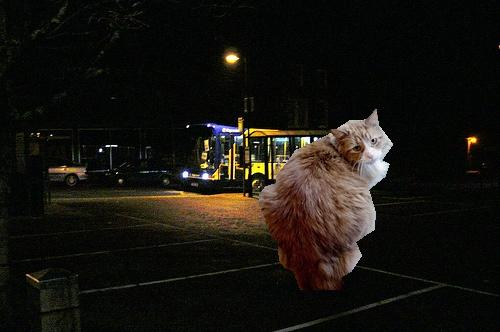tampered: (259, 110, 393, 290)
